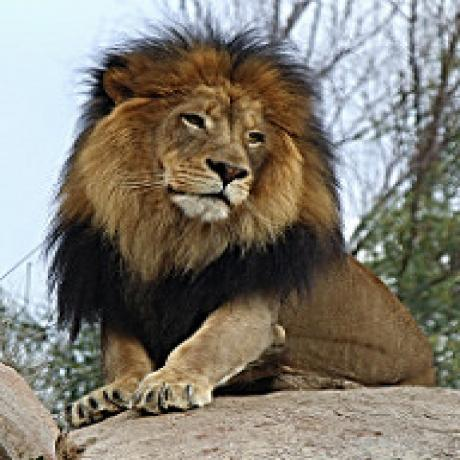Lion: (37, 30, 437, 419)
